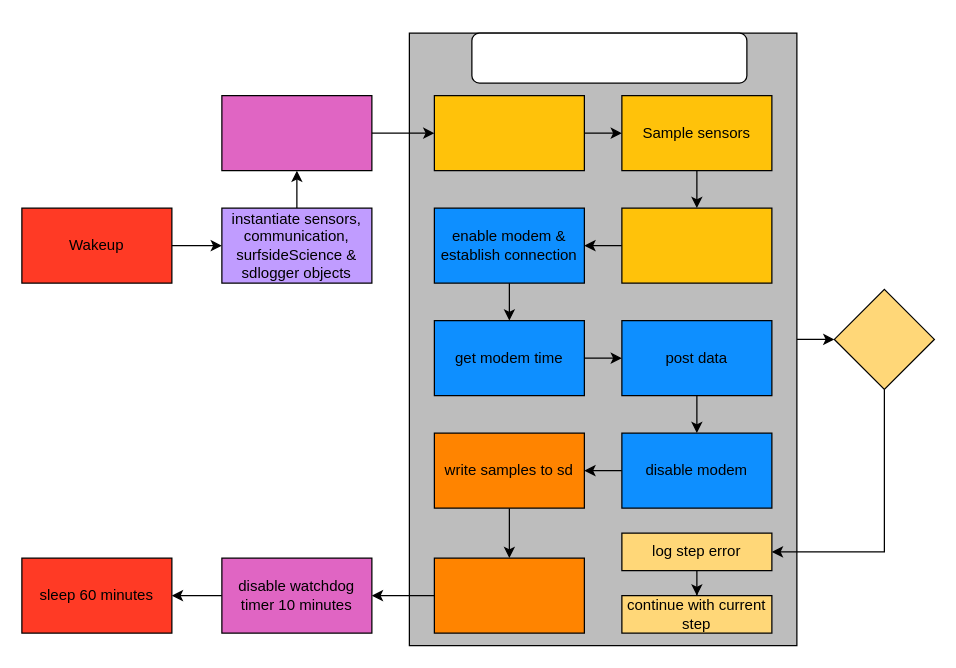
This 956x668 diagram has some shape labels left out. The shapes that lost their labels are listed below. From the top down, each one's centre as x and y in pixels, then its label:
At point 609,57: "surfSideScience".
At point 296,132: "enable watchdog timer 10 minutes".
At point 508,132: "ENABLE Sensors & wait for sensor equilibrium state".
At point 696,245: "disable sensors".
At point 883,338: "error".
At point 508,595: "dump error log to sd".
